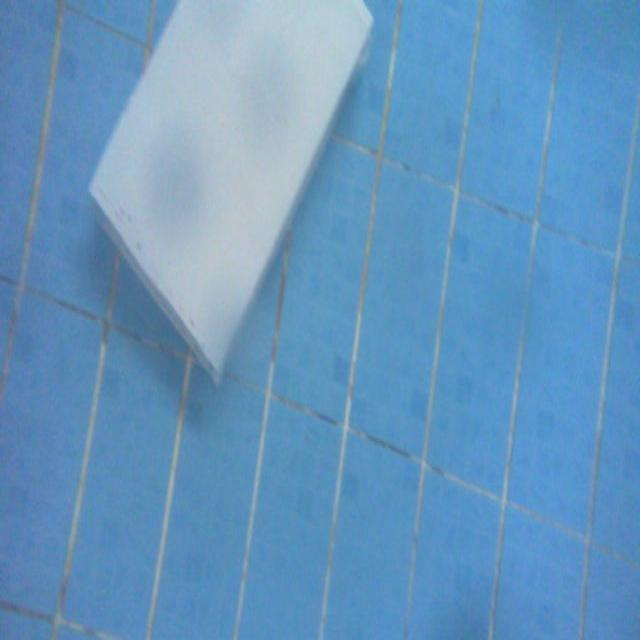Cuboid: (87, 0, 374, 388)
